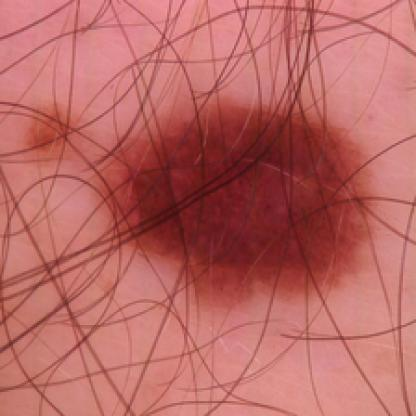benign: (87, 102, 383, 288)
